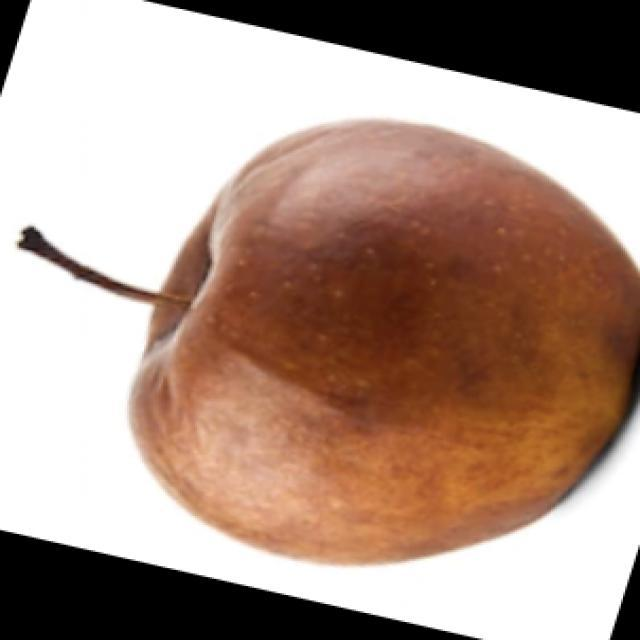Rotten: (130, 120, 640, 587)
